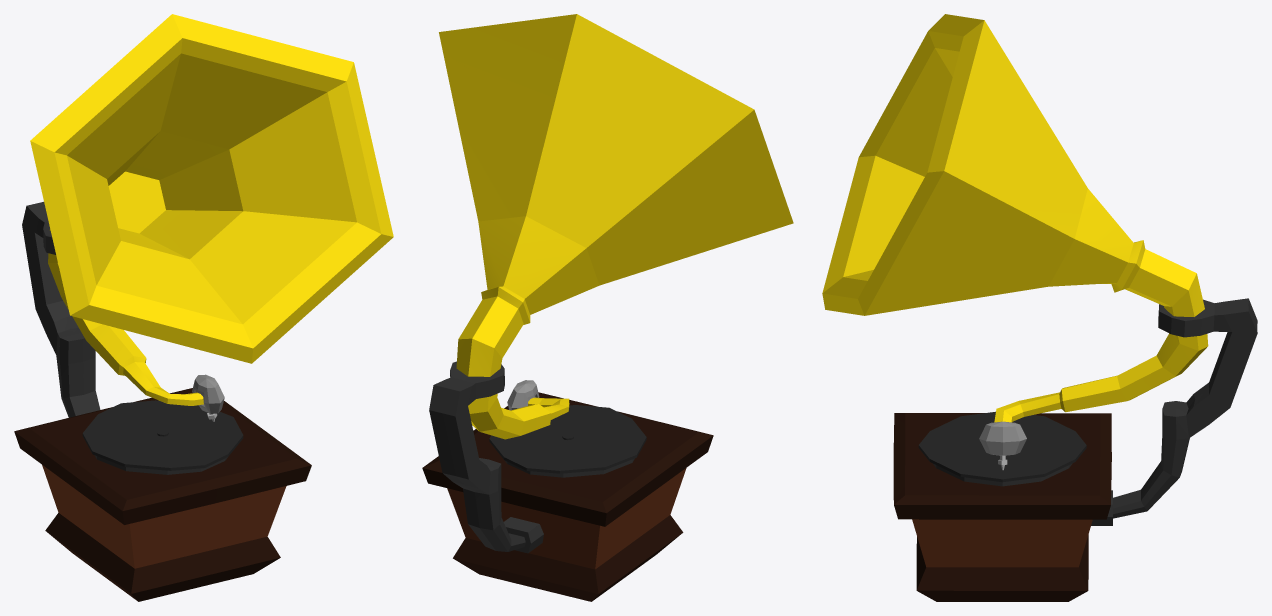
Rendered from gramophone4.glb.
3 renders of one model, left to right at view 1: azimuth 30°, elevation 25°; view 2: azimuth 150°, elevation 25°; view 3: azimuth 270°, elevation 25°, orthographic. The views are drawn at different scales.
Visible parts, largest first — view 1: Trumpet_0, Base Gramophone_1; view 2: Trumpet_0, Base Gramophone_1; view 3: Trumpet_0, Base Gramophone_1.
Part boxes in pixels (<box>): Trumpet_0: <box>22,14,393,421</box>; Base Gramophone_1: <box>14,388,311,601</box>; Trumpet_0: <box>429,14,793,553</box>; Base Gramophone_1: <box>422,392,713,601</box>; Trumpet_0: <box>822,14,1257,525</box>; Base Gramophone_1: <box>893,411,1111,601</box>.
Size of the model in its own units: 0.9485 by 1.56 by 1.11.
2 materials, 1 textured.
